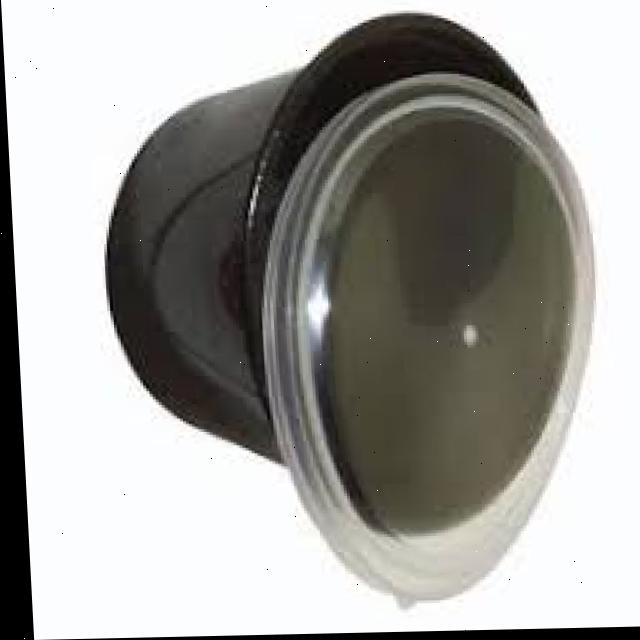disposable: (69, 1, 616, 557)
